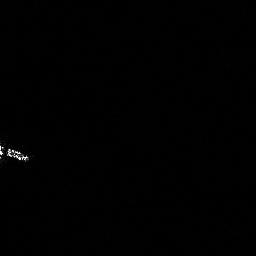ship: (1, 141, 34, 165)
